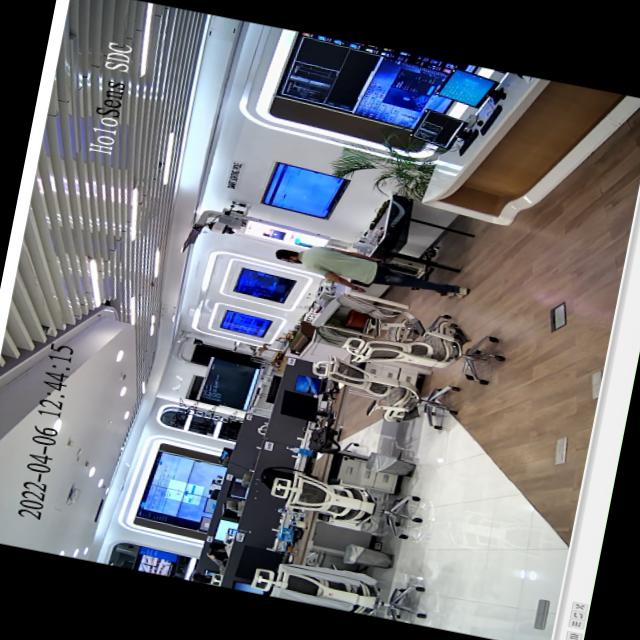long weapon: (359, 253, 427, 278)
